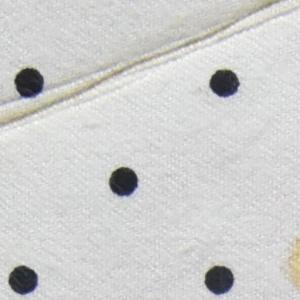Oil Stain: (1, 1, 300, 139)
Stain: (280, 233, 300, 294)
